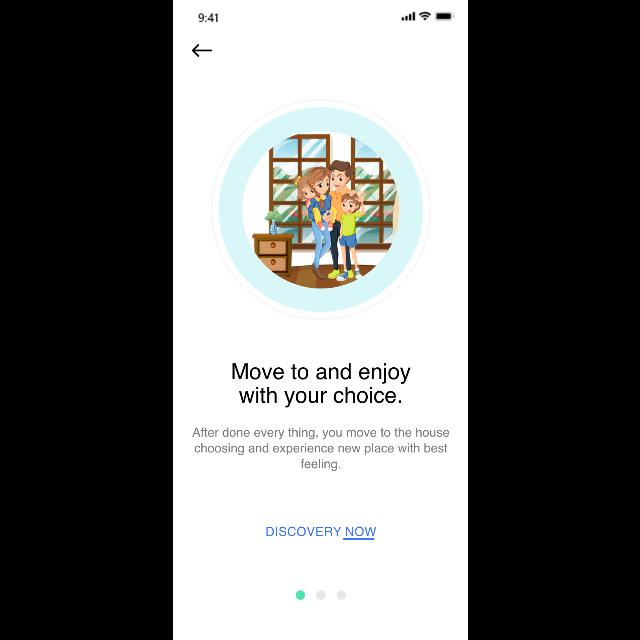icon: (192, 44, 212, 58)
image: (210, 99, 430, 321)
pageindicator: (296, 590, 346, 600)
text: (192, 427, 448, 471), (232, 362, 410, 408), (266, 526, 376, 540)
uppertaskbar: (198, 11, 454, 23)
